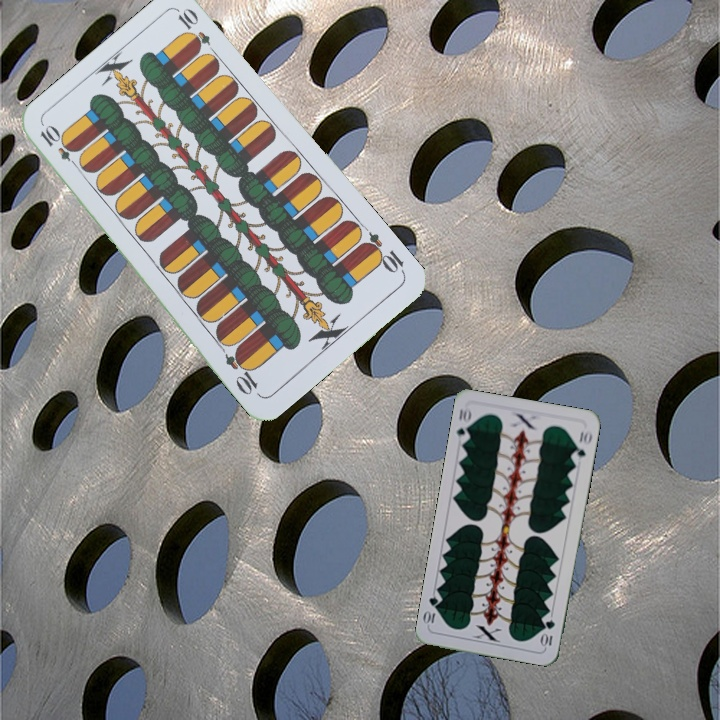E10: (358, 228, 408, 277), (36, 122, 84, 172)
G10: (453, 403, 474, 445), (538, 616, 557, 649)
